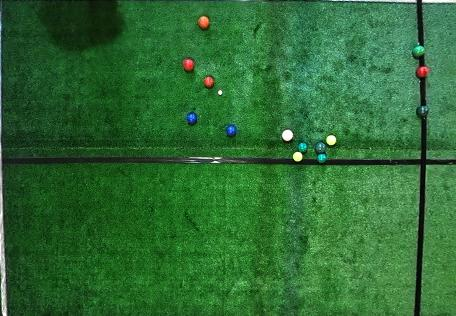blue: (186, 112, 198, 125), (226, 125, 237, 137)
green: (415, 105, 429, 119), (412, 45, 425, 59), (315, 142, 327, 154), (316, 153, 328, 164), (298, 142, 308, 155)
red: (416, 65, 430, 78), (182, 59, 195, 72), (198, 15, 210, 29), (281, 129, 293, 142), (204, 76, 214, 89)
vline: (414, 117, 456, 315), (0, 1, 12, 315), (416, 1, 455, 45), (419, 76, 455, 105)
white: (218, 90, 223, 96)
yellow: (326, 135, 337, 146), (292, 151, 303, 162)
